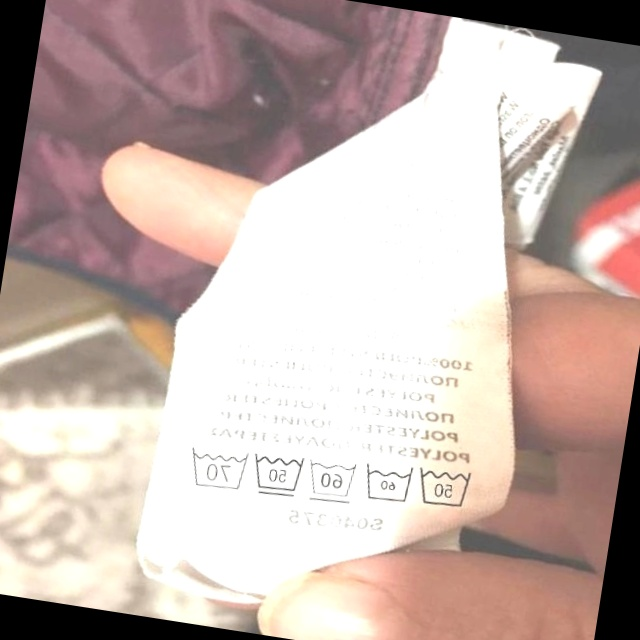50C: (410, 457, 479, 516), (245, 446, 308, 503)
60C: (300, 452, 360, 507), (357, 456, 417, 510)
70C: (180, 441, 250, 495)
